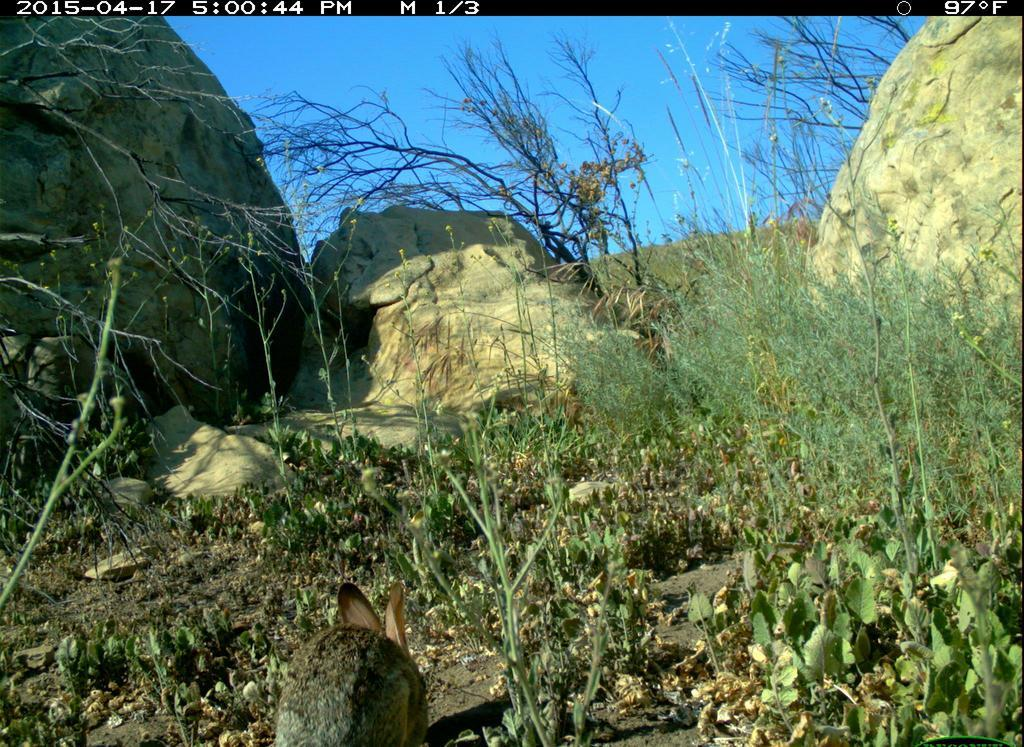rabbit: (267, 575, 436, 747)
